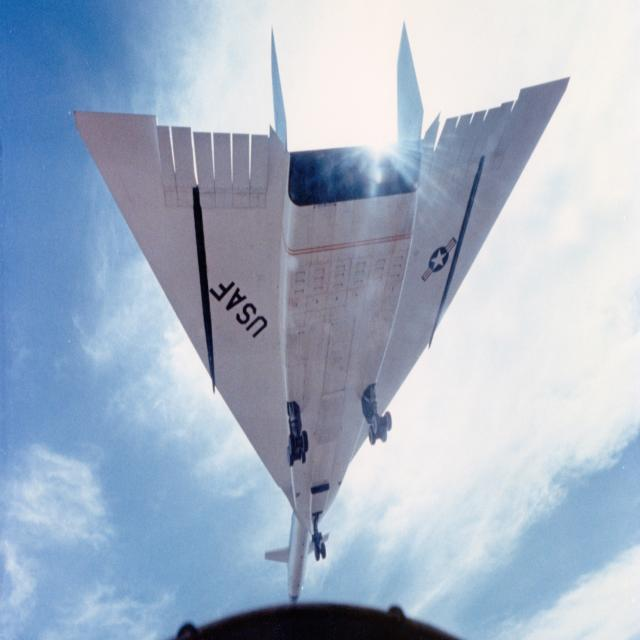MIL_Plane: (72, 19, 570, 602)
